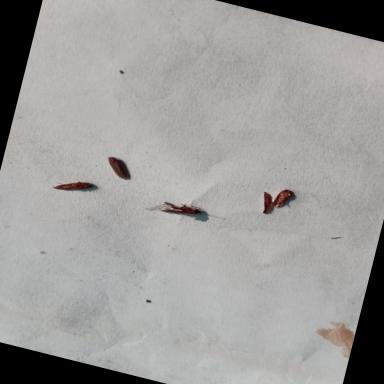pbw: (48, 172, 95, 200), (156, 196, 204, 222), (99, 153, 135, 182), (268, 185, 298, 213)
